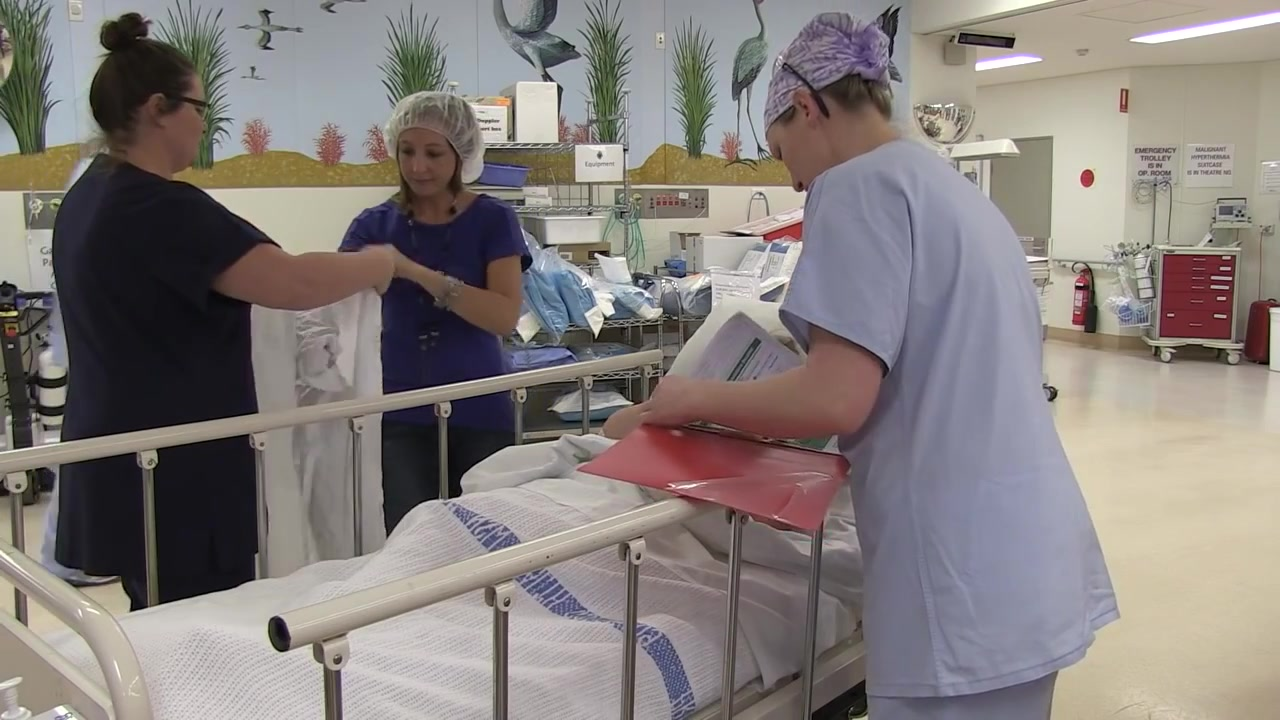bedrail: (1, 348, 666, 625), (264, 461, 898, 720)
foot_board: (1, 532, 154, 720)
handle: (1186, 319, 1205, 329), (1190, 272, 1206, 282), (1189, 283, 1206, 292), (1188, 297, 1205, 306), (1190, 264, 1208, 272), (1191, 256, 1209, 263)
hospital_bed: (1, 293, 904, 720)
iv_pole: (1142, 176, 1166, 282)
medical_drawer: (1153, 241, 1244, 365)
staff: (753, 1, 1184, 720), (48, 14, 339, 620)
visitor: (349, 93, 524, 511)
